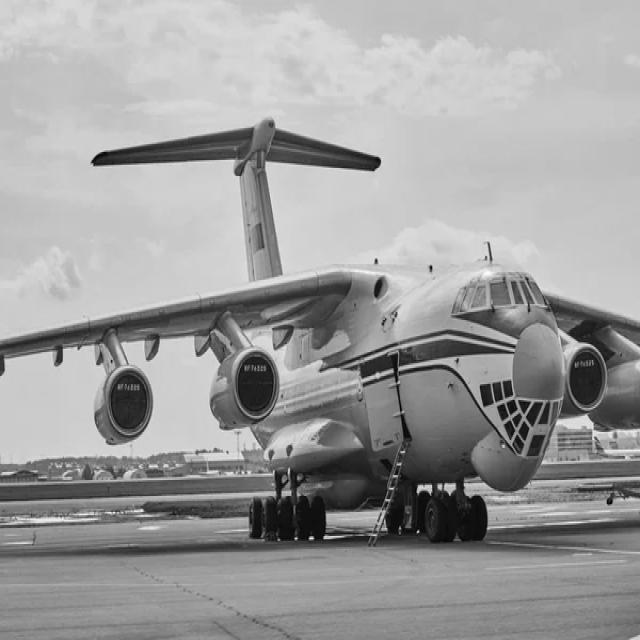Aircraft: (0, 99, 622, 545)
